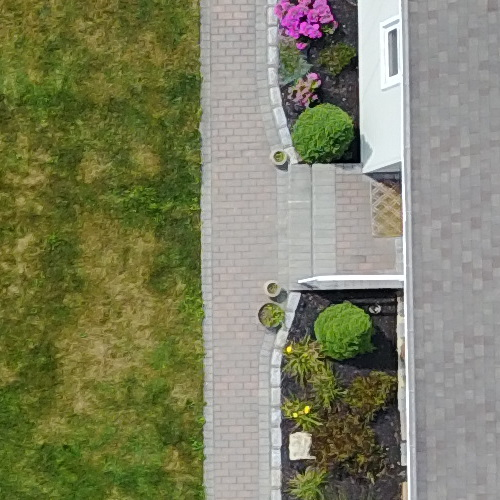flower pot: (245, 295, 292, 333), (267, 146, 293, 170), (263, 279, 286, 299)
